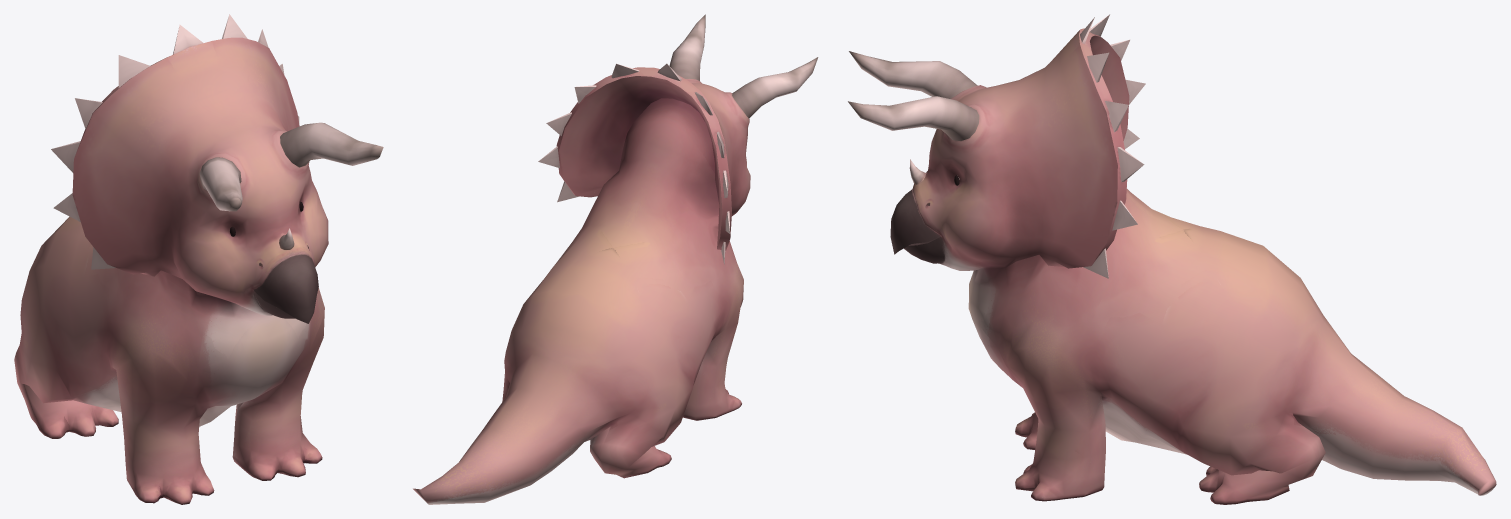
File: mofletitos.obj
3 views of the same model, side by side, from view 1: azimuth 30°, elevation 25°; view 2: azimuth 150°, elevation 25°; view 3: azimuth 270°, elevation 25° (orthographic). The views are drawn at different scales.
Visible parts, largest first — view 1: Chubby_Plane; view 2: Chubby_Plane; view 3: Chubby_Plane.
Boxes of the visible parts, x1=… form: Chubby_Plane: x1=14, y1=14, x2=383, y2=504; Chubby_Plane: x1=413, y1=14, x2=818, y2=504; Chubby_Plane: x1=848, y1=14, x2=1496, y2=504.
Bounding box in the file's own units: 2.19 × 3.81 × 5.12.
1 material, 1 textured.
